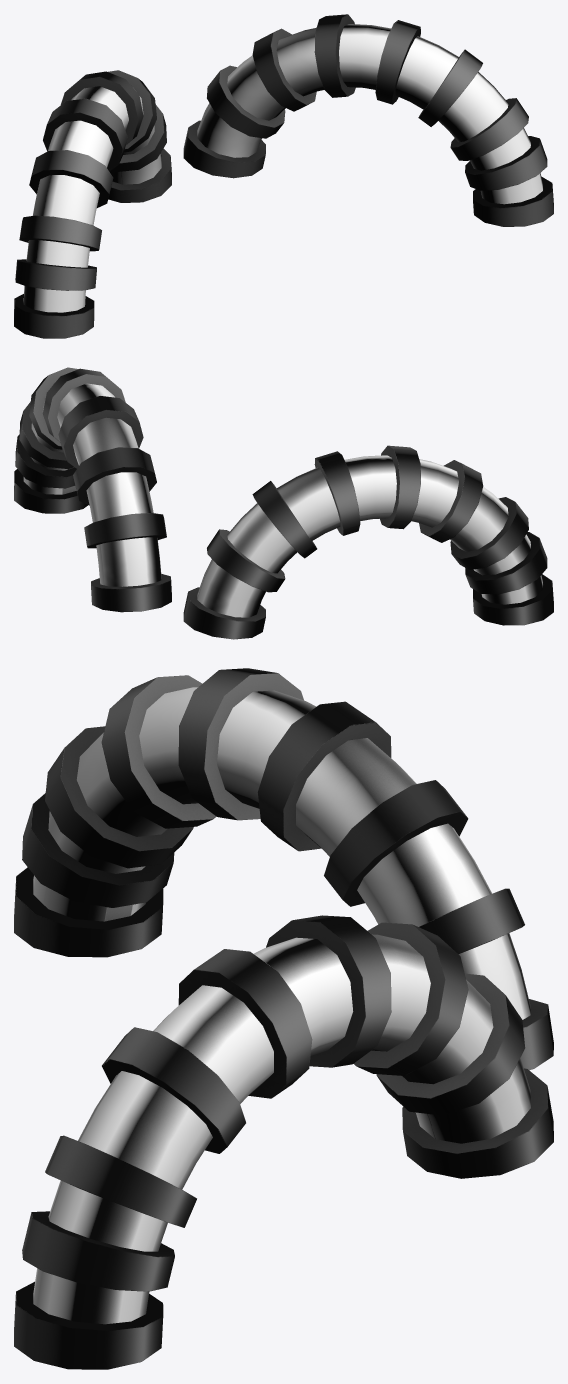
The model's file is fuelSystem2NEW.fbx.
The picture shows the model from 3 angles, top to bottom: view 1: azimuth 30°, elevation 25°; view 2: azimuth 150°, elevation 25°; view 3: azimuth 270°, elevation 25°; orthographic projection. The views are drawn at different scales.
Visible parts, largest first — view 1: fuelSystem2NEW; view 2: fuelSystem2NEW; view 3: fuelSystem2NEW.
Boxes of the visible parts, x1,y1,x2,y2 form: fuelSystem2NEW: [14, 14, 553, 338]; fuelSystem2NEW: [14, 367, 553, 639]; fuelSystem2NEW: [14, 668, 553, 1369].
Bounding box in the file's own units: 6.13 × 2.94 × 1.92.
1 material, 1 textured.
